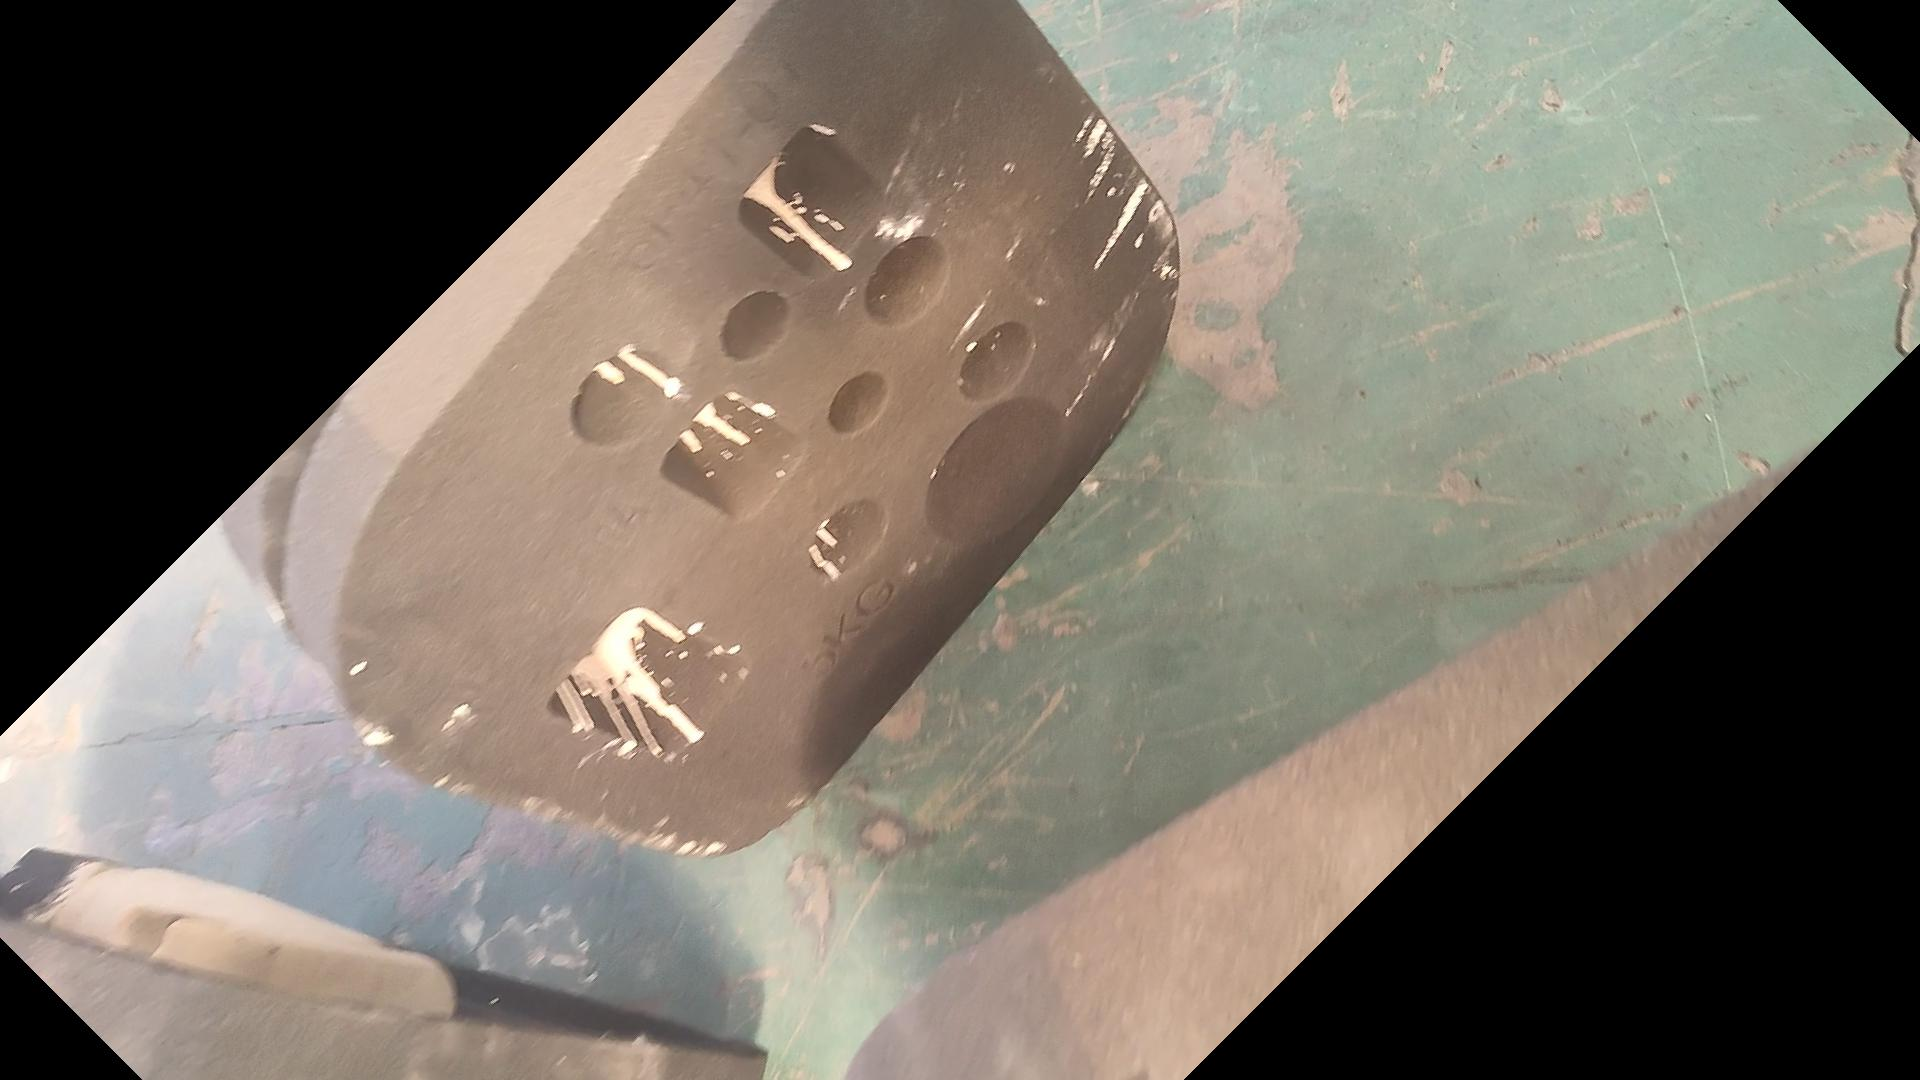pouring hole: (922, 398, 1069, 545)
